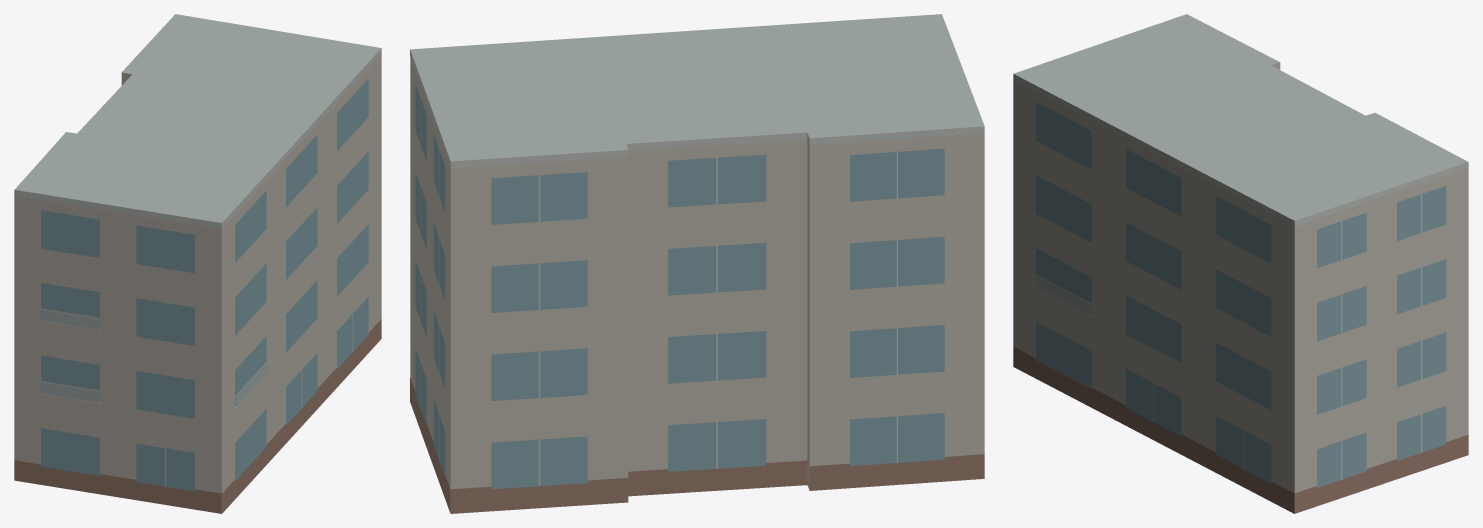
File: survey-upis-32746881.glb
3 renders of one model, left to right at view 1: azimuth 30°, elevation 25°; view 2: azimuth 150°, elevation 25°; view 3: azimuth 270°, elevation 25°, orthographic. The views are drawn at different scales.
Visible parts, largest first — view 1: survey-upis-32746881.tmp; view 2: survey-upis-32746881.tmp; view 3: survey-upis-32746881.tmp.
Part boxes in pixels (x1=…): survey-upis-32746881.tmp: x1=14, y1=14, x2=381, y2=513; survey-upis-32746881.tmp: x1=410, y1=14, x2=984, y2=513; survey-upis-32746881.tmp: x1=1013, y1=14, x2=1468, y2=513.
Size of the model in its own units: 18.47 by 12.2 by 17.18.
